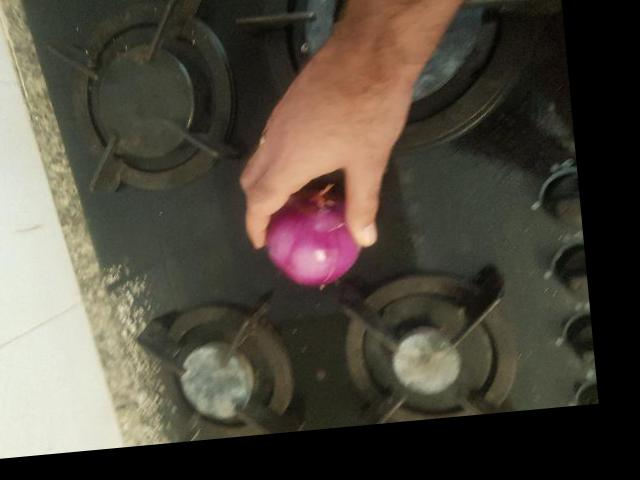onion: (260, 187, 366, 294)
